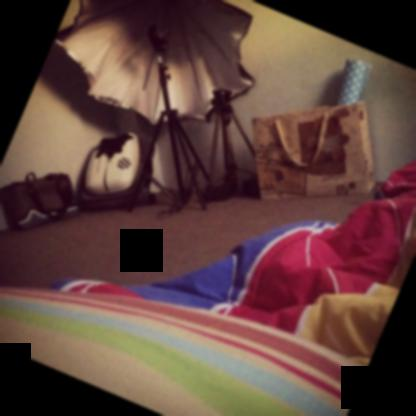handbag: (252, 99, 375, 199), (0, 172, 79, 228)
